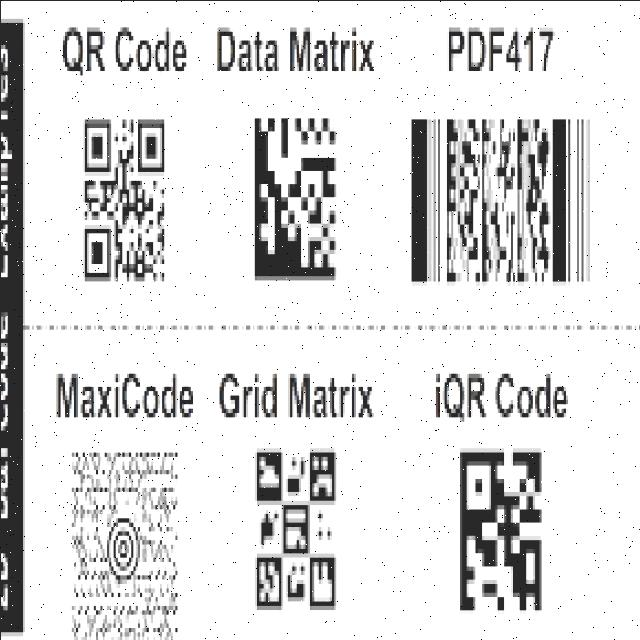datamatrix: (249, 106, 340, 290)
